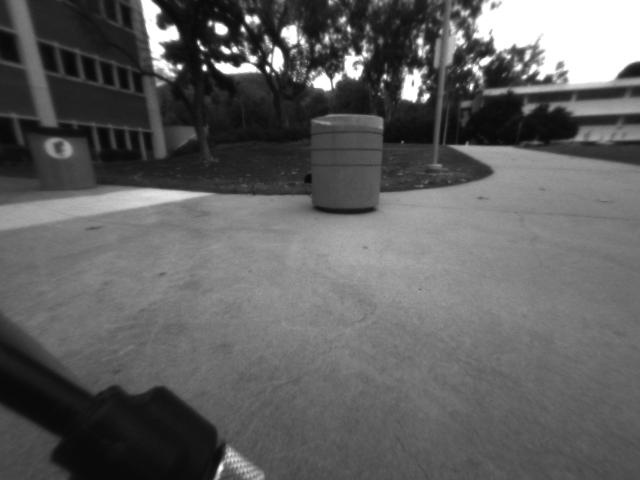trashcan: (303, 108, 389, 221), (18, 119, 107, 193)
